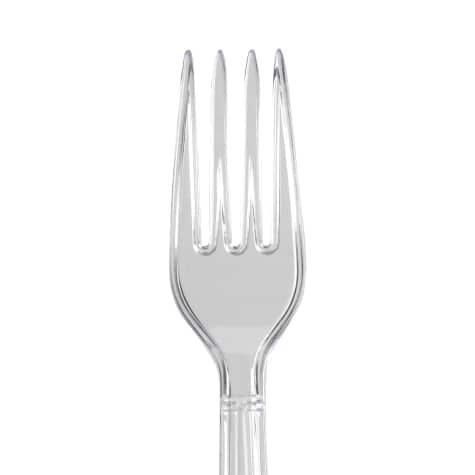Fork: (169, 48, 305, 475)
